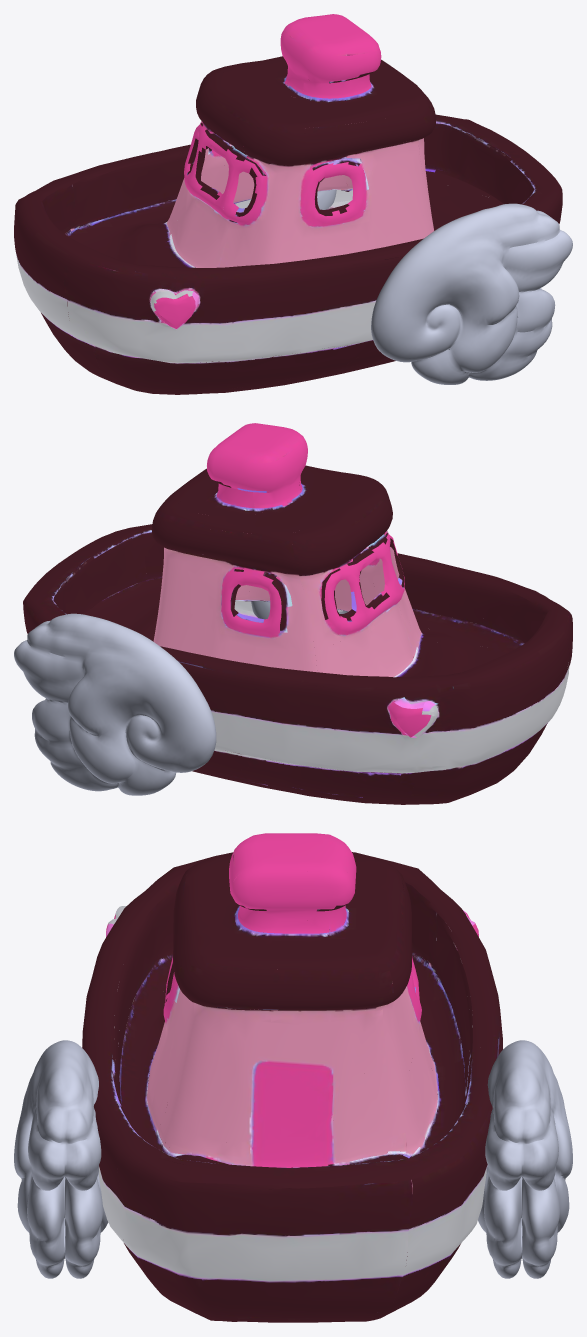
File: cosmic-boat.glb
3 views of the same model, one above another, from view 1: azimuth 30°, elevation 25°; view 2: azimuth 150°, elevation 25°; view 3: azimuth 270°, elevation 25° (orthographic). The views are drawn at different scales.
Parts seen in each view (by area): view 1: Mesh_0, Mesh_0.002; view 2: Mesh_0, Mesh_0.001; view 3: Mesh_0, Mesh_0.001, Mesh_0.002.
Boxes of the visible parts, x1=… form: Mesh_0: x1=14, y1=14, x2=562, y2=394; Mesh_0.002: x1=371, y1=203, x2=572, y2=384; Mesh_0: x1=23, y1=423, x2=572, y2=804; Mesh_0.001: x1=14, y1=613, x2=216, y2=795; Mesh_0: x1=82, y1=833, x2=502, y2=1322; Mesh_0.001: x1=478, y1=1040, x2=572, y2=1278; Mesh_0.002: x1=14, y1=1040, x2=108, y2=1278.
Size of the model in its own units: 1.91 by 1.14 by 1.49.
Materials: 2 (1 with a texture image).
